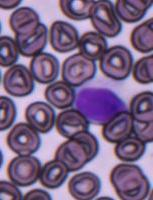L: (72, 82, 128, 125)
